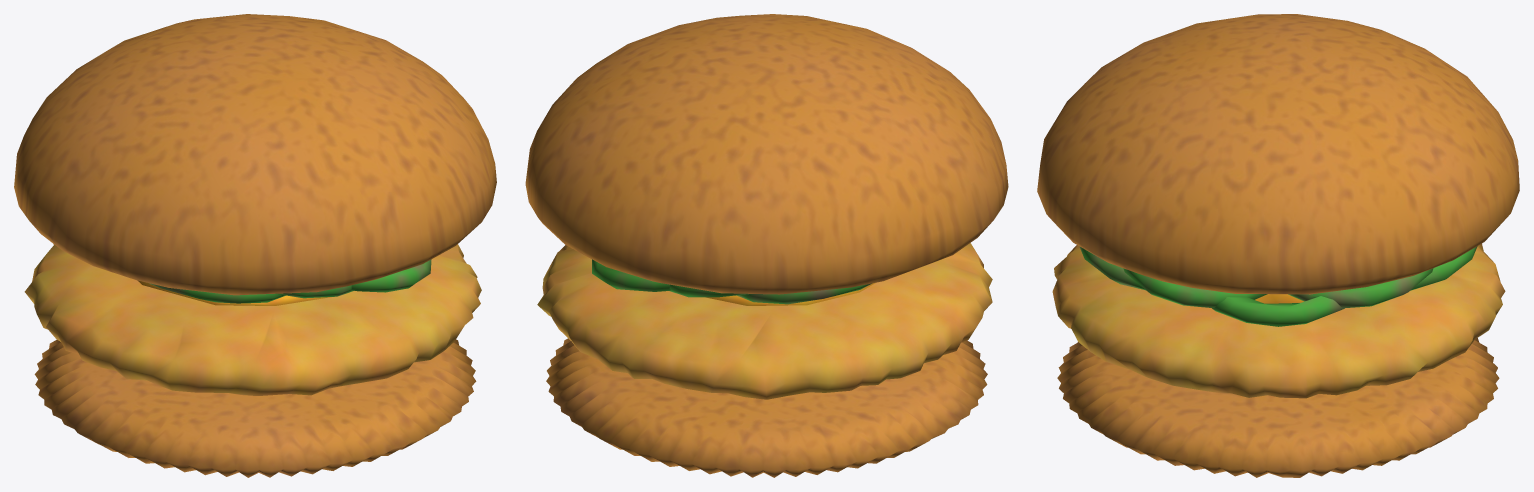
Rendered from paneer-royale-burger-ultralight.glb.
3 views of the same model, side by side, from view 1: azimuth 30°, elevation 25°; view 2: azimuth 150°, elevation 25°; view 3: azimuth 270°, elevation 25° (orthographic).
Parts seen in each view (by area): view 1: Mesh_Royale_Brioche_Buns, Mesh_Shahi_Paneer_Steak_Patty, Mesh_Pickled_Onion_And_Arugula, Mesh_Saffron_Makhani_Cheese_Melt; view 2: Mesh_Royale_Brioche_Buns, Mesh_Shahi_Paneer_Steak_Patty, Mesh_Pickled_Onion_And_Arugula, Mesh_Saffron_Makhani_Cheese_Melt; view 3: Mesh_Royale_Brioche_Buns, Mesh_Shahi_Paneer_Steak_Patty, Mesh_Pickled_Onion_And_Arugula.
Part boxes in pixels (x1=…): Mesh_Royale_Brioche_Buns: x1=14, y1=14, x2=496, y2=477; Mesh_Shahi_Paneer_Steak_Patty: x1=24, y1=244, x2=481, y2=395; Mesh_Pickled_Onion_And_Arugula: x1=149, y1=259, x2=431, y2=303; Mesh_Saffron_Makhani_Cheese_Melt: x1=137, y1=280, x2=331, y2=305; Mesh_Royale_Brioche_Buns: x1=525, y1=14, x2=1008, y2=477; Mesh_Shahi_Paneer_Steak_Patty: x1=537, y1=243, x2=992, y2=399; Mesh_Pickled_Onion_And_Arugula: x1=592, y1=259, x2=872, y2=304; Mesh_Saffron_Makhani_Cheese_Melt: x1=706, y1=282, x2=875, y2=305; Mesh_Royale_Brioche_Buns: x1=1037, y1=14, x2=1519, y2=477; Mesh_Shahi_Paneer_Steak_Patty: x1=1052, y1=243, x2=1505, y2=398; Mesh_Pickled_Onion_And_Arugula: x1=1079, y1=246, x2=1477, y2=326.
Bounding box in the file's own units: 2 × 1.67 × 2.
Materials: 4 (4 with a texture image).
